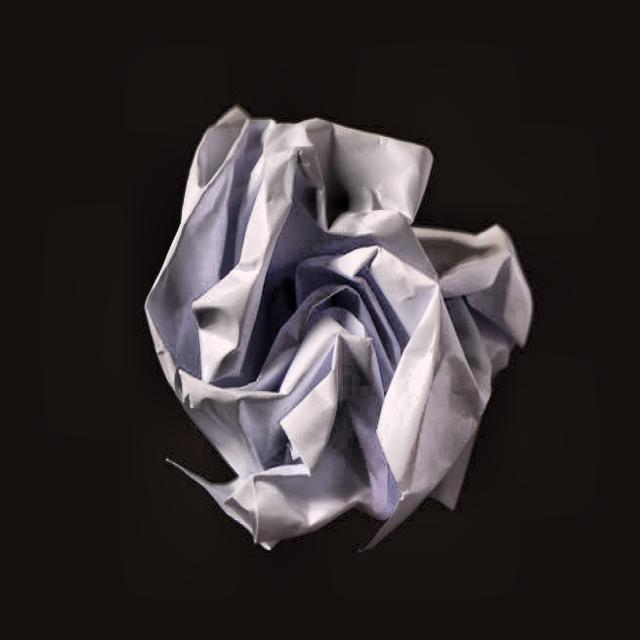Paper: (124, 68, 550, 574)
